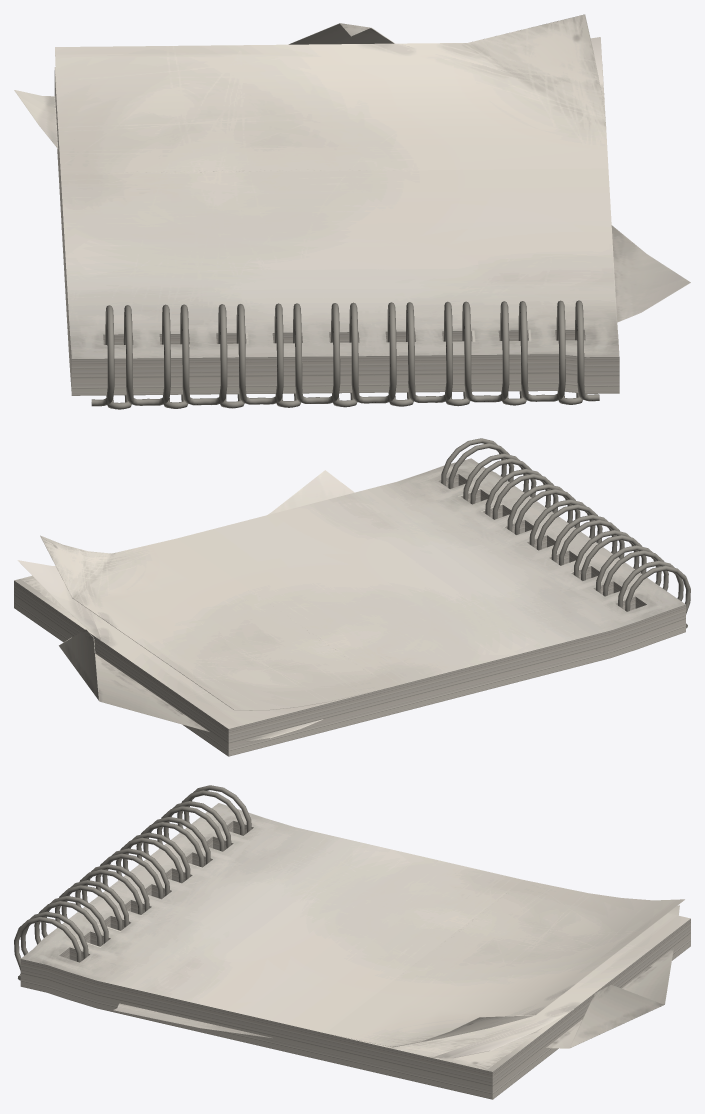
Rendered from notebook.glb.
3 views of the same model, one above another, from view 1: azimuth 30°, elevation 25°; view 2: azimuth 150°, elevation 25°; view 3: azimuth 270°, elevation 25° (orthographic). The views are drawn at different scales.
Visible parts, largest first — view 1: Torus.002, Torus.003; view 2: Torus.002, Torus.003; view 3: Torus.002, Torus.003.
Boxes of the visible parts, bbox=[...] form: Torus.002: bbox=[14, 14, 690, 395]; Torus.003: bbox=[91, 300, 599, 409]; Torus.002: bbox=[14, 458, 685, 756]; Torus.003: bbox=[441, 438, 690, 628]; Torus.002: bbox=[20, 803, 690, 1099]; Torus.003: bbox=[14, 785, 251, 980].
Size of the model in its own units: 0.2937 by 0.0405 by 0.3202.
Materials: 1 (1 with a texture image).
